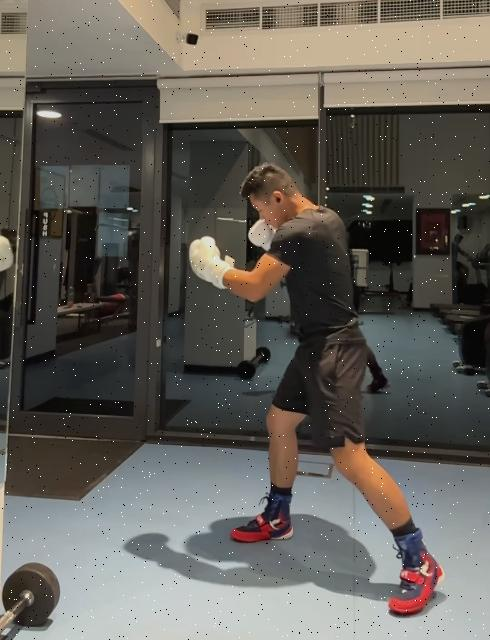punch: (189, 164, 445, 616)
